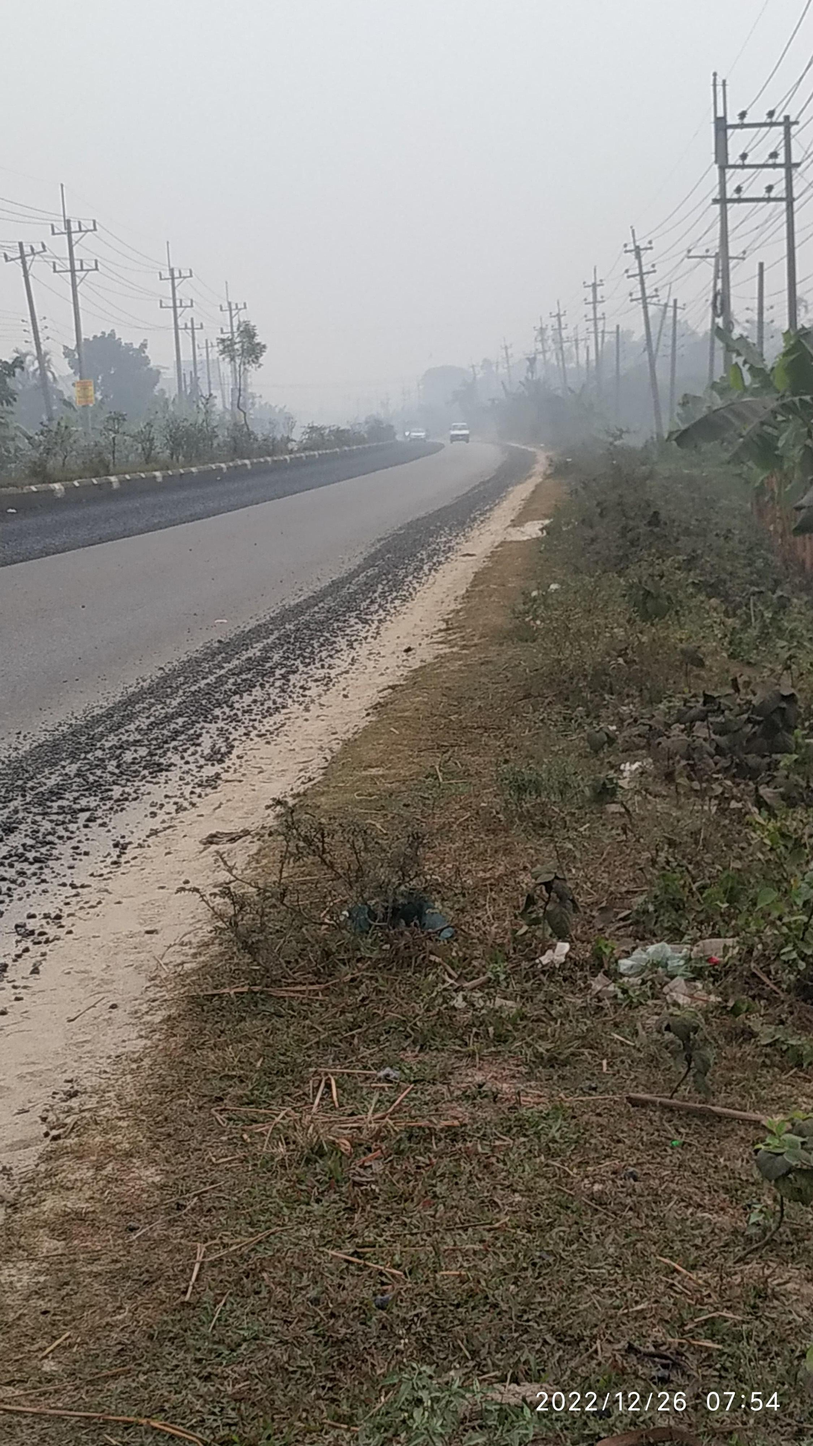Car: (443, 410, 479, 447)
